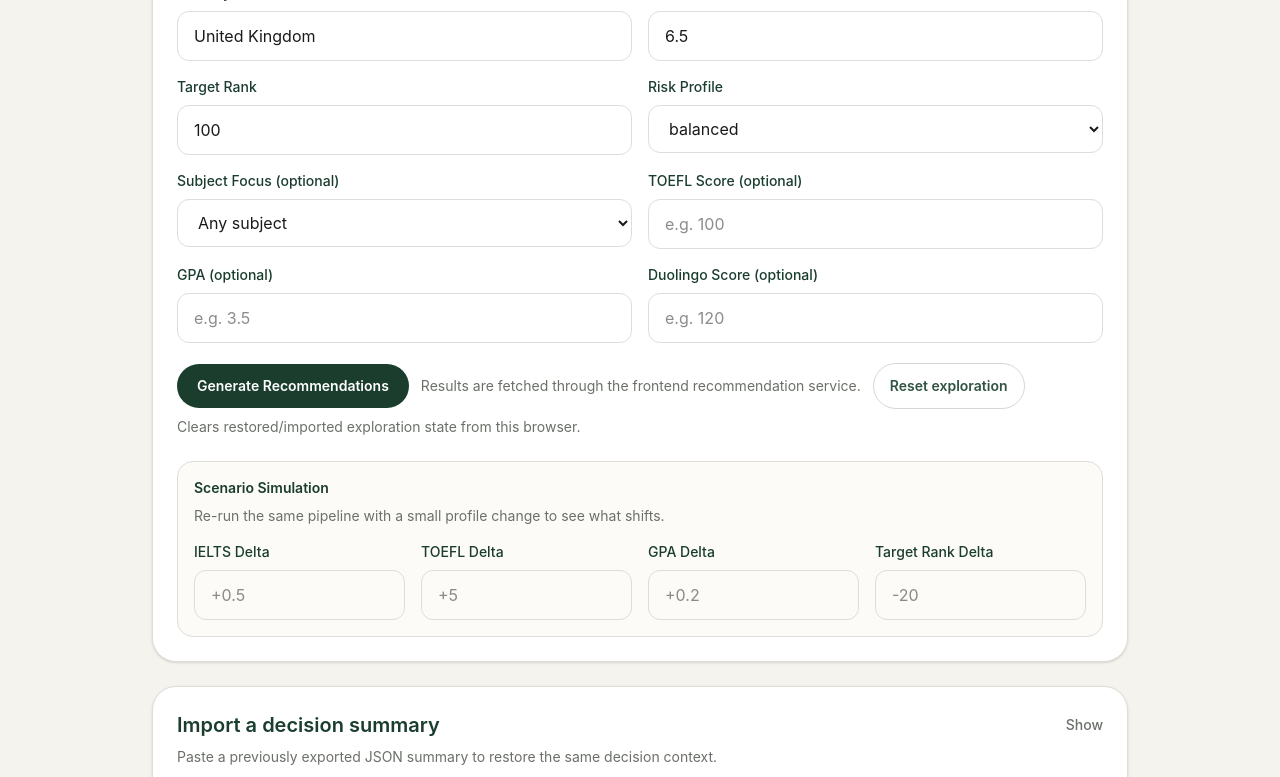
Scenario: RecommendationPageContent export summary › renders the compact decision banner
(page scrolled)
Click the button "Generate Recommendations" at (293, 386), box [177,364,409,408]
(page scrolled)
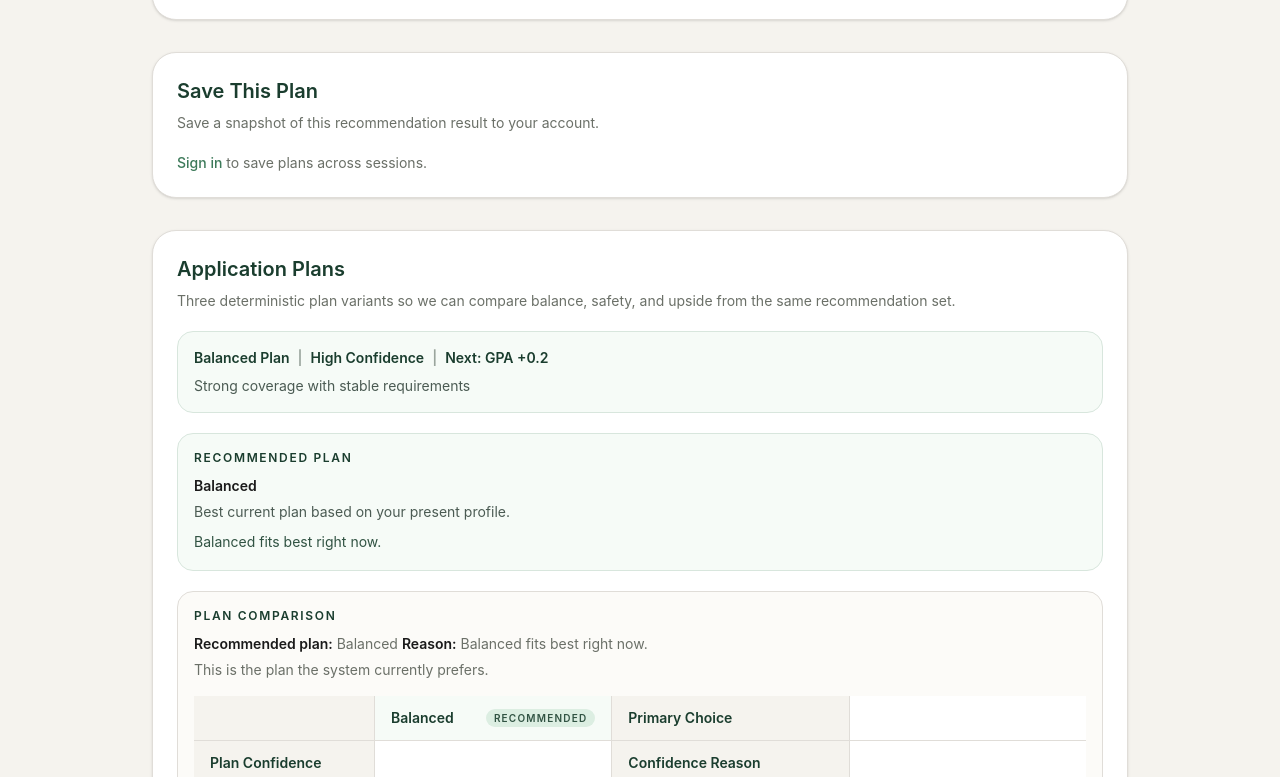
expect the text "Balanced Plan" is shown: met, box [194,348,290,368]
expect the text "High Confidence" is shown: met, box [311,348,424,368]
expect the text "Next: GPA +0.2" is shown: met, box [445,348,548,368]
